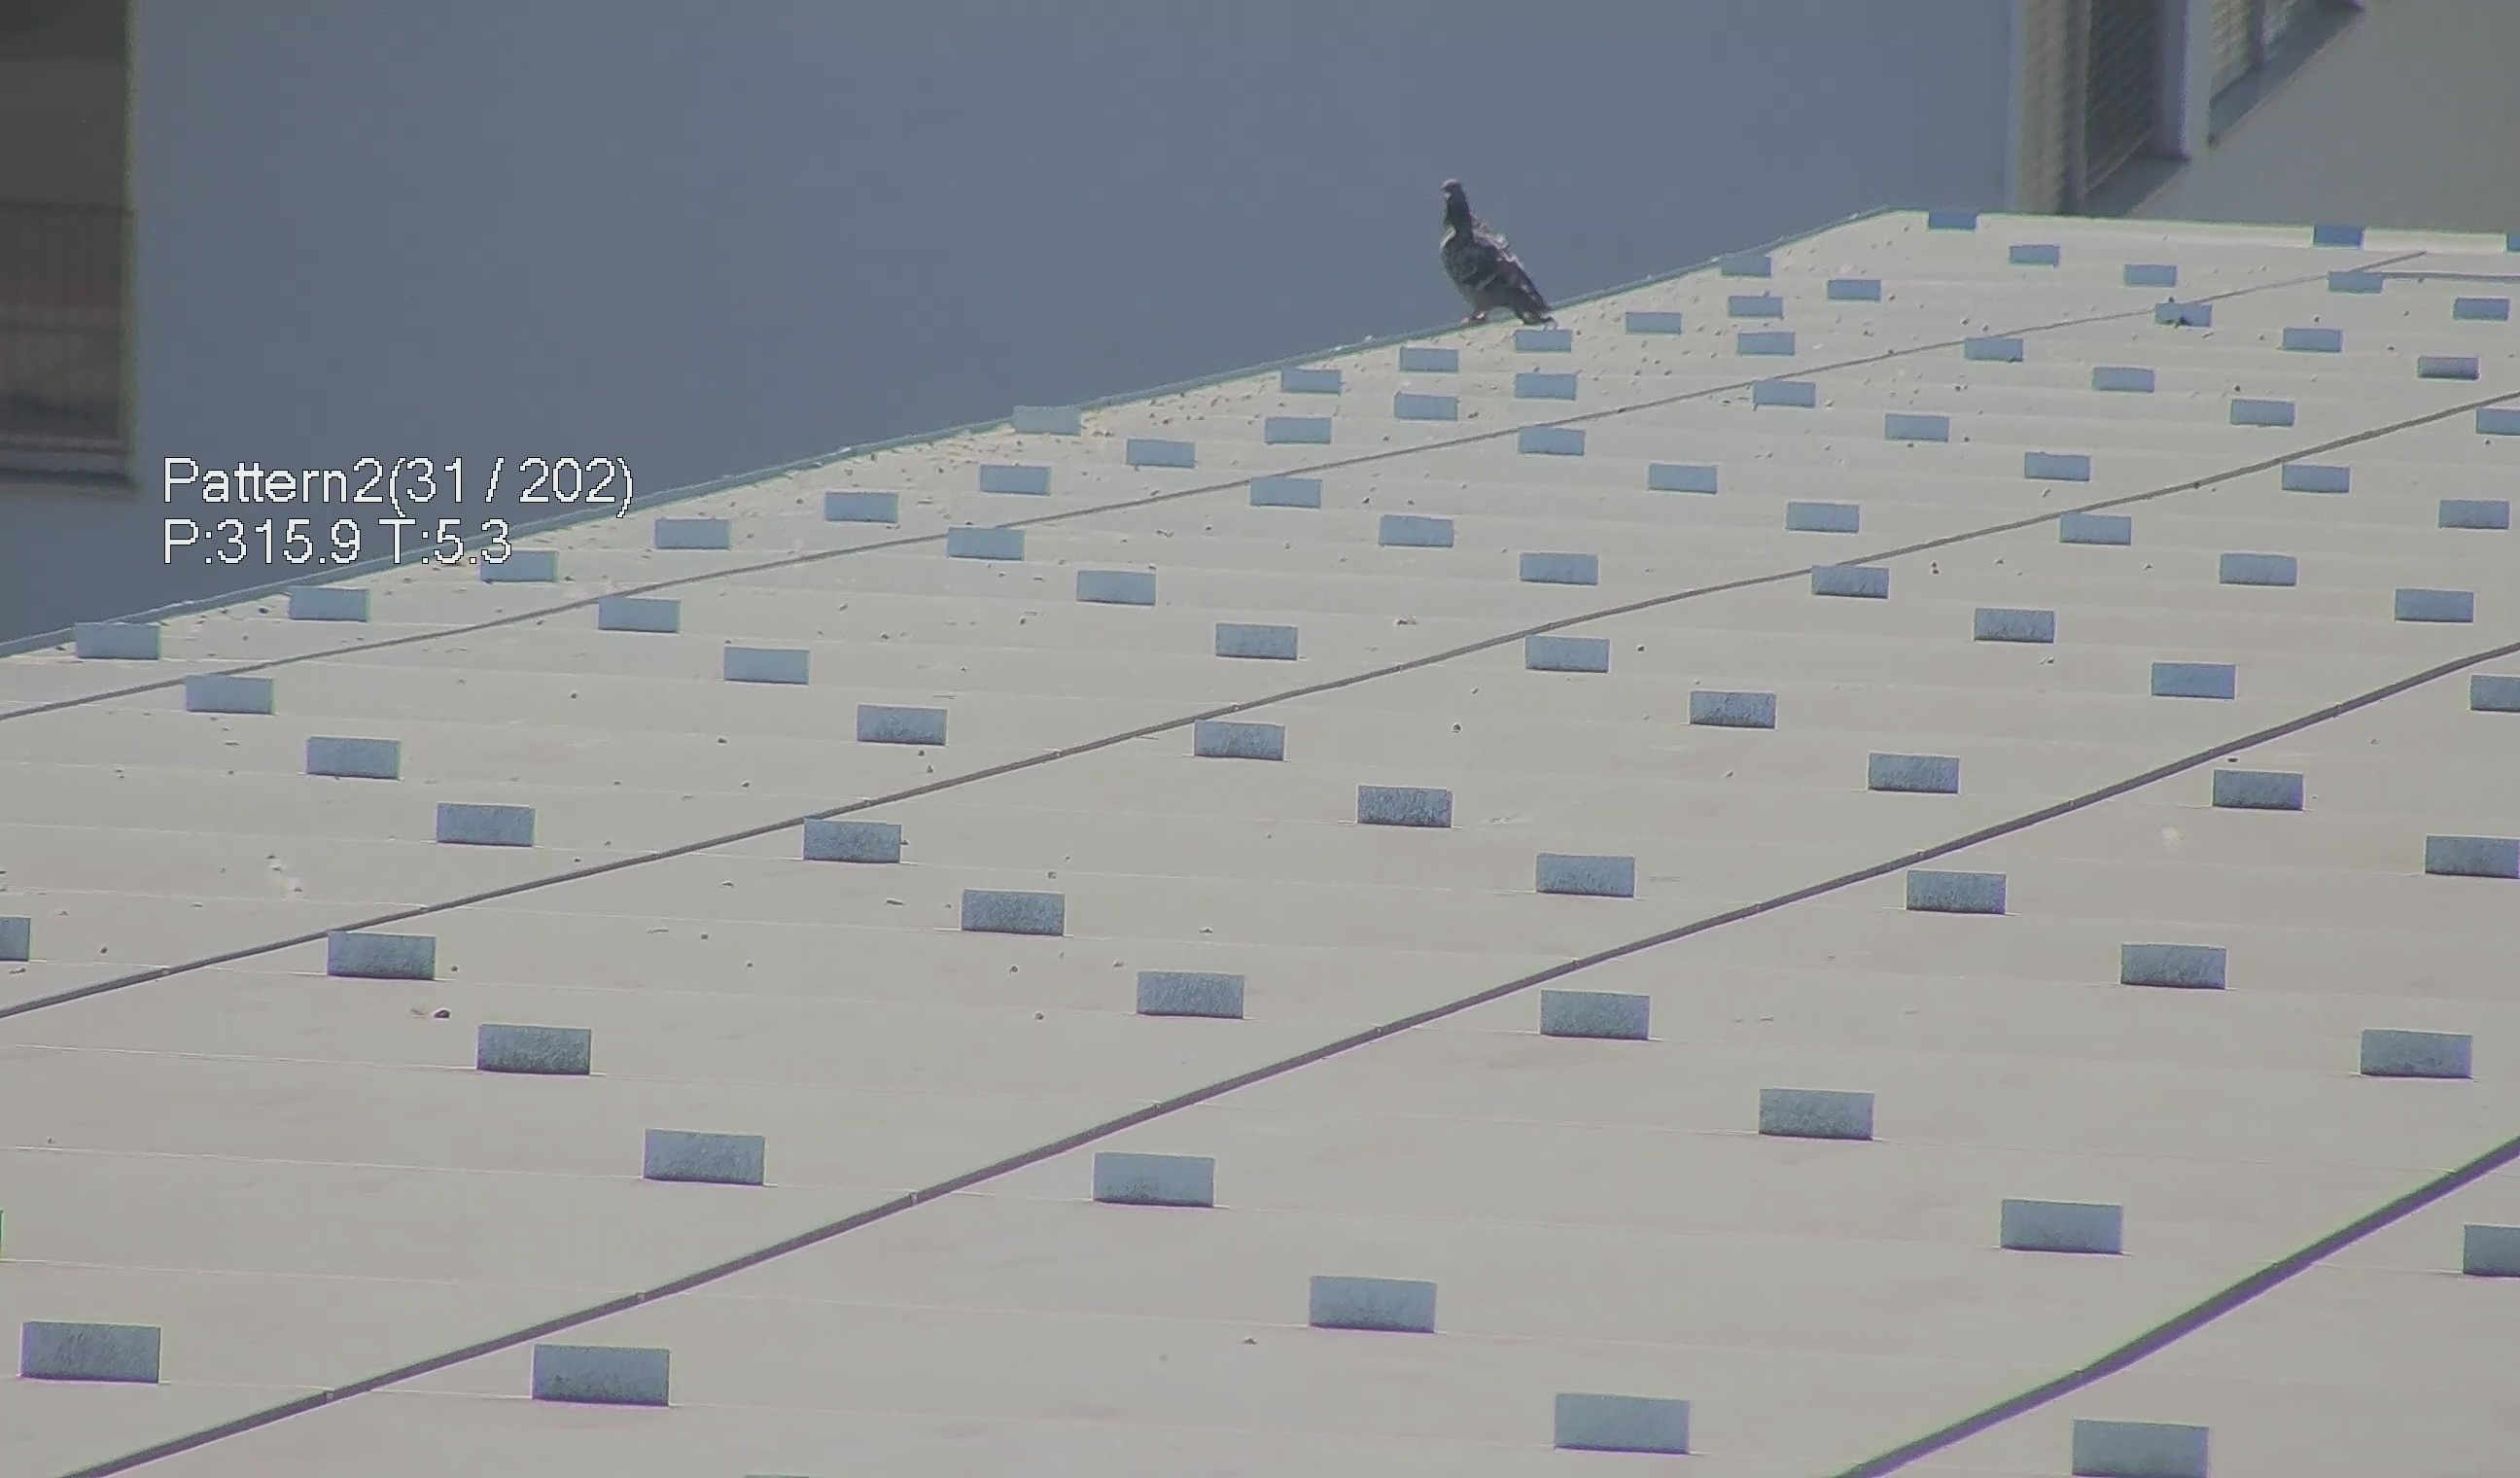Pigeon: (1421, 167, 1567, 334)
